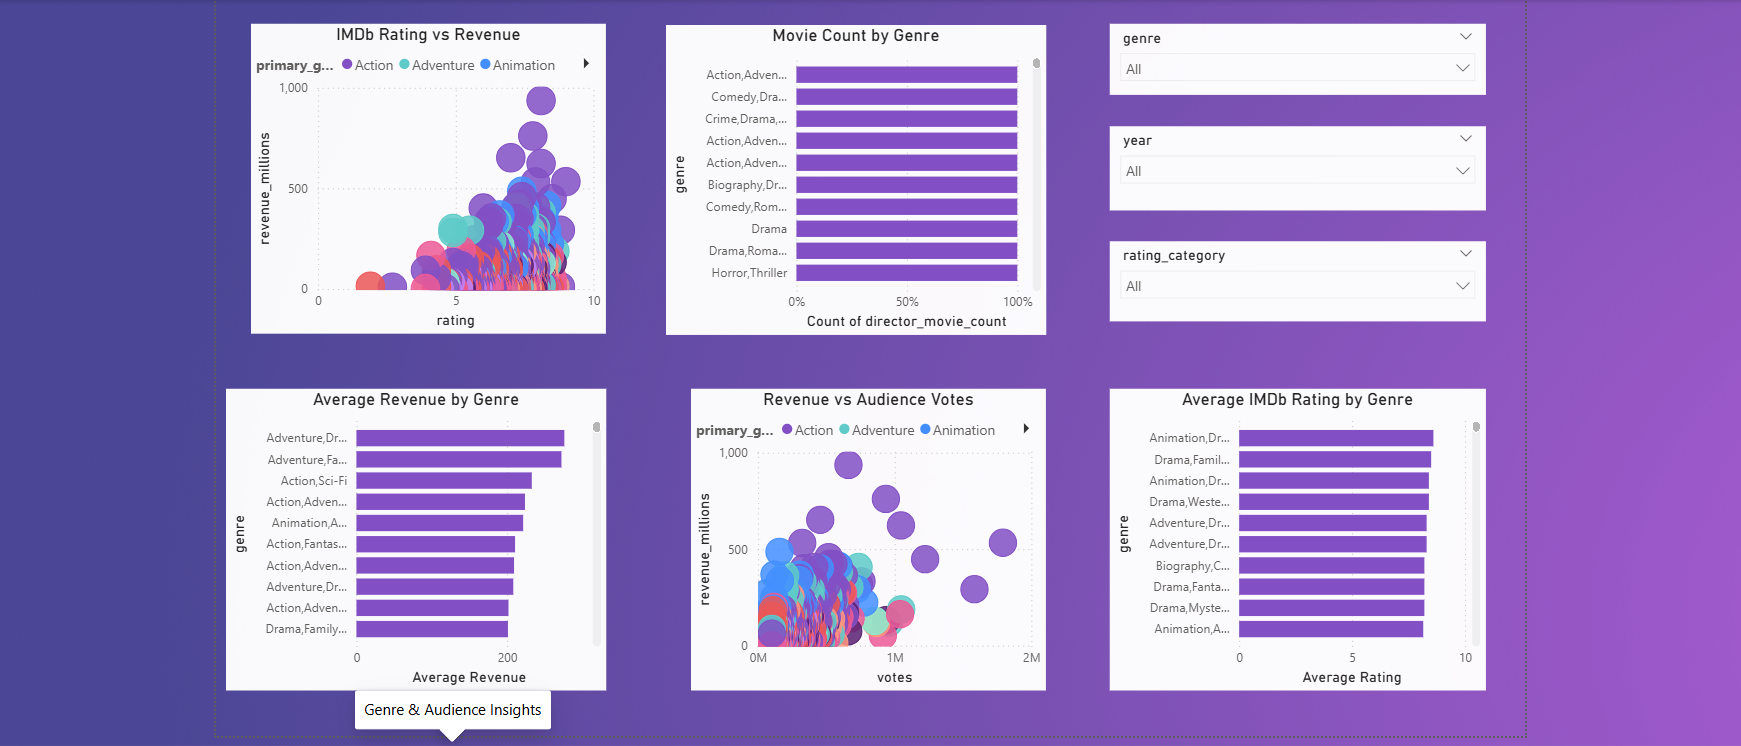

This screenshot's page, from the dashboard's own definition file:
{"tool":"powerbi","page":{"name":"Genre & Audience Insights","canvas":[1280,720],"ordinal":1},"visuals":[{"type":"hundredPercentStackedBarChart","title":"Movie Count by Genre","fields":{"Category":["fact_movies.genre"],"Y":["Count(fact_movies.director_movie_count)"]},"box":[440.5,24.7,371.9,303.3],"z":0},{"type":"barChart","title":"Average Revenue by Genre","fields":{"Category":["fact_movies.genre"],"Y":["fact_movies.Average Revenue"]},"box":[9.6,380.1,371.9,295],"z":1000},{"type":"barChart","title":"Average IMDb Rating by Genre","fields":{"Category":["fact_movies.genre"],"Y":["fact_movies.Average Rating"]},"box":[874.1,380.1,367.8,295],"z":2000},{"type":"scatterChart","title":"Revenue vs Audience Votes","fields":{"X":["fact_movies.votes"],"Y":["fact_movies.revenue_millions"],"Series":["fact_movies.primary_genre"],"Size":["CountNonNull(fact_movies.rating)"]},"box":[465.2,380.1,347.2,295],"z":3000},{"type":"scatterChart","title":"IMDb Rating vs Revenue","fields":{"X":["fact_movies.rating"],"Y":["fact_movies.revenue_millions"],"Series":["fact_movies.primary_genre"],"Size":["CountNonNull(fact_movies.votes)"]},"box":[34.3,23.3,347.2,303.3],"z":4000},{"type":"slicer","fields":{"Values":["fact_movies.genre"]},"box":[874.1,23.3,367.8,70],"z":5000},{"type":"slicer","fields":{"Values":["fact_movies.year"]},"box":[874.1,123.5,367.8,82.3],"z":6000},{"type":"slicer","fields":{"Values":["fact_movies.rating_category"]},"box":[874.1,236,367.8,78.2],"z":7000}]}

Visuals, with their boxes in screenshot pixels (x1, y1, x2, y2):
"Movie Count by Genre" hundredPercentStackedBarChart: [660, 21, 1041, 332]
"Average Revenue by Genre" barChart: [218, 385, 599, 687]
"Average IMDb Rating by Genre" barChart: [1104, 385, 1481, 687]
"Revenue vs Audience Votes" scatterChart: [685, 385, 1041, 687]
"IMDb Rating vs Revenue" scatterChart: [244, 19, 599, 330]
slicer - fact_movies.genre: [1104, 19, 1481, 91]
slicer - fact_movies.year: [1104, 122, 1481, 206]
slicer - fact_movies.rating_category: [1104, 237, 1481, 317]
